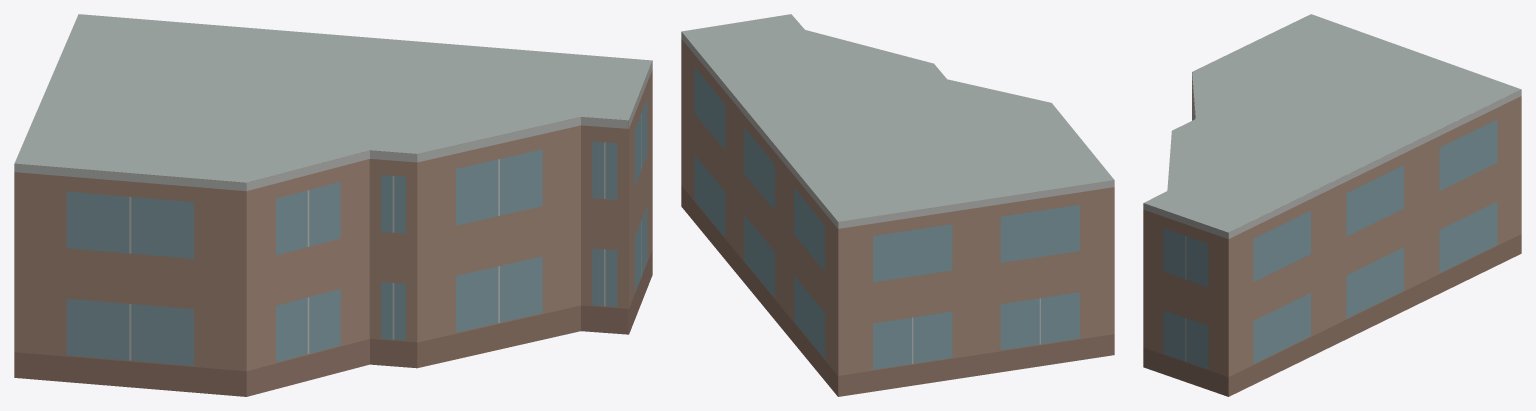
File: survey-upis-32718497.glb
3 renders of one model, left to right at view 1: azimuth 30°, elevation 25°; view 2: azimuth 150°, elevation 25°; view 3: azimuth 270°, elevation 25°, orthographic. The views are drawn at different scales.
Parts seen in each view (by area): view 1: survey-upis-32718497.tmp; view 2: survey-upis-32718497.tmp; view 3: survey-upis-32718497.tmp.
Part boxes in pixels (box(x1,y1,x2,y2)): survey-upis-32718497.tmp: box(14, 14, 652, 396); survey-upis-32718497.tmp: box(681, 14, 1114, 396); survey-upis-32718497.tmp: box(1143, 14, 1521, 396).
Bounding box in the file's own units: 17.42 × 6.1 × 12.73.
